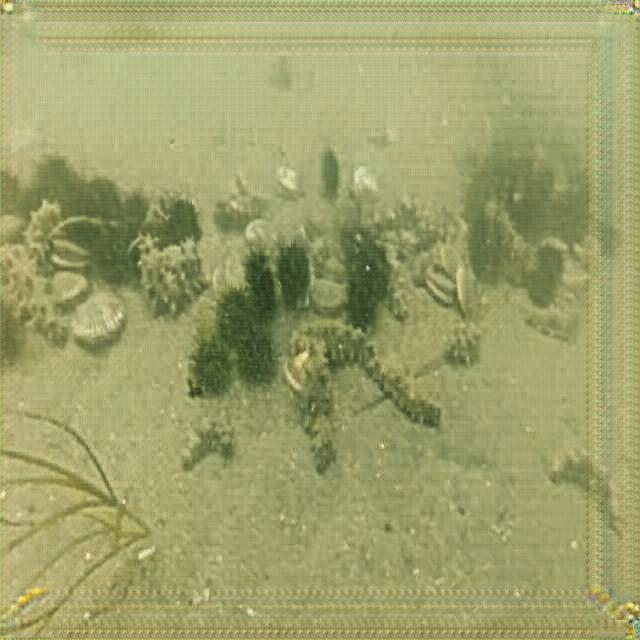echinus: (30, 153, 79, 237), (78, 170, 124, 254), (186, 337, 234, 403), (237, 321, 279, 393), (524, 238, 568, 306), (466, 208, 505, 284), (275, 237, 313, 310), (211, 283, 253, 349), (357, 242, 391, 308), (503, 172, 540, 231), (553, 191, 588, 248), (0, 296, 23, 378), (166, 196, 203, 246), (343, 276, 375, 332), (0, 162, 29, 221), (118, 187, 150, 240), (252, 266, 282, 322), (244, 242, 270, 295), (344, 221, 372, 270), (320, 146, 343, 202), (267, 52, 296, 95)
holothurian: (548, 435, 626, 545), (1, 242, 69, 344), (138, 232, 208, 321), (367, 360, 443, 433), (300, 351, 338, 477), (179, 412, 237, 478), (286, 322, 370, 365), (523, 286, 583, 345), (493, 205, 537, 280), (21, 199, 66, 270), (381, 240, 411, 322), (442, 319, 482, 367), (305, 235, 330, 275)
scallop: (69, 290, 129, 352), (49, 210, 98, 269), (49, 266, 89, 312), (454, 262, 482, 320), (311, 275, 349, 316), (423, 266, 459, 308), (284, 348, 313, 400), (244, 215, 276, 261), (275, 158, 304, 204), (437, 237, 466, 280), (294, 261, 316, 313), (350, 163, 380, 194)
